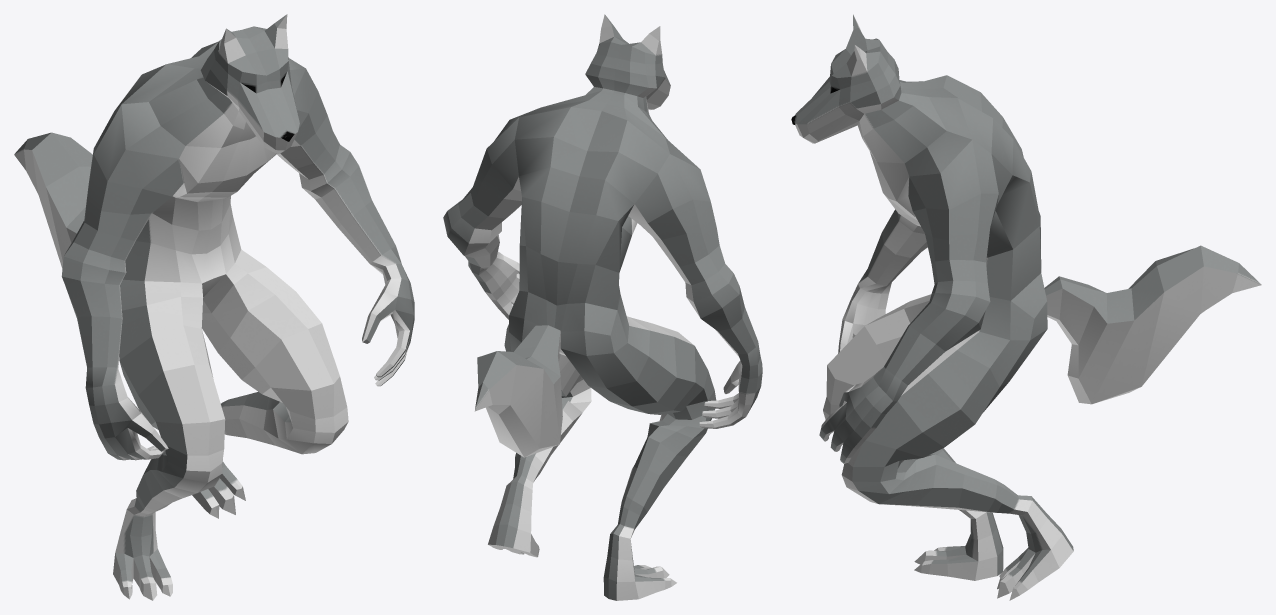
Rendered from WolfWalk(40).obj.
The picture shows the model from 3 angles, left to right: view 1: azimuth 30°, elevation 25°; view 2: azimuth 150°, elevation 25°; view 3: azimuth 270°, elevation 25°; orthographic projection. The views are drawn at different scales.
Visible parts, largest first — view 1: Box001; view 2: Box001; view 3: Box001.
Boxes of the visible parts, bbox=[...] form: Box001: bbox=[14, 14, 414, 600]; Box001: bbox=[443, 14, 762, 600]; Box001: bbox=[791, 14, 1261, 600].
Bounding box in the file's own units: 77.07 × 134 × 100.
